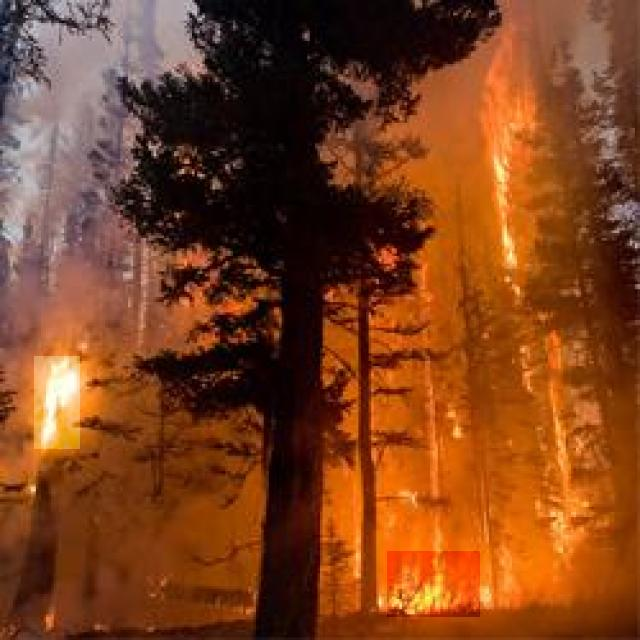Fire: (480, 50, 572, 620), (387, 551, 485, 617), (34, 356, 80, 449)
